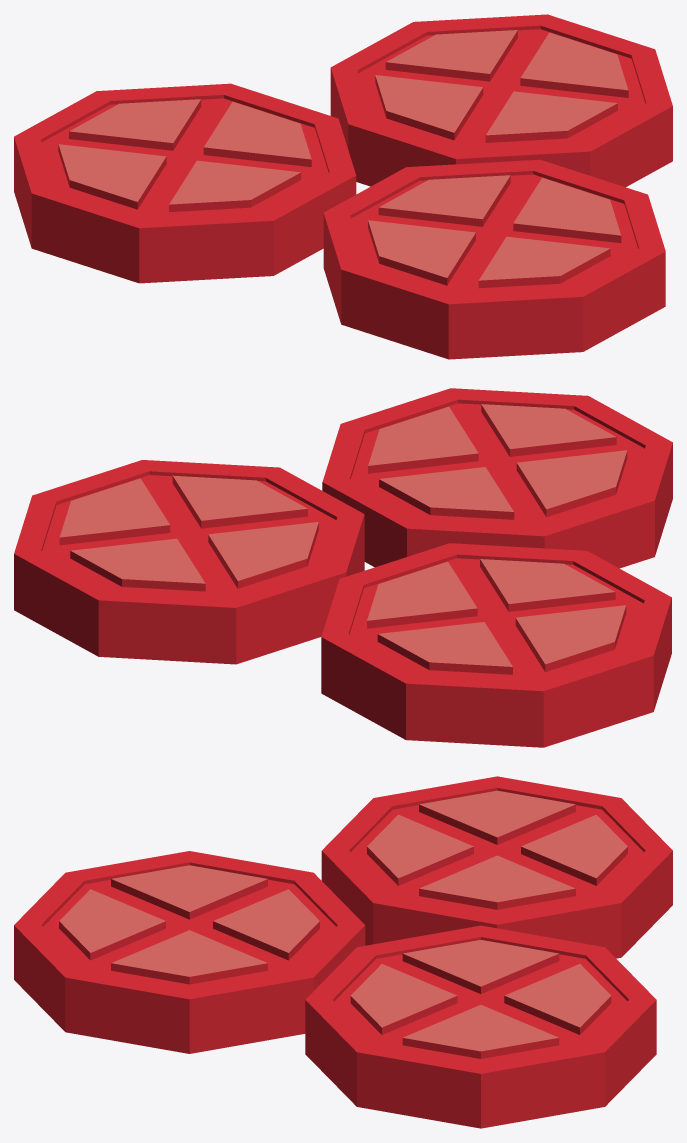
File: tomatoeSlices.fbx
3 views of the same model, one above another, from view 1: azimuth 30°, elevation 25°; view 2: azimuth 150°, elevation 25°; view 3: azimuth 270°, elevation 25° (orthographic). The views are drawn at different scales.
Parts seen in each view (by area): view 1: Circle; view 2: Circle; view 3: Circle.
Boxes of the visible parts, left/top/right/bottom form: Circle: left=14, top=14, right=672, bottom=359; Circle: left=14, top=388, right=672, bottom=747; Circle: left=14, top=776, right=672, bottom=1128.
Bounding box in the file's own units: 40.34 × 3.97 × 37.76.
